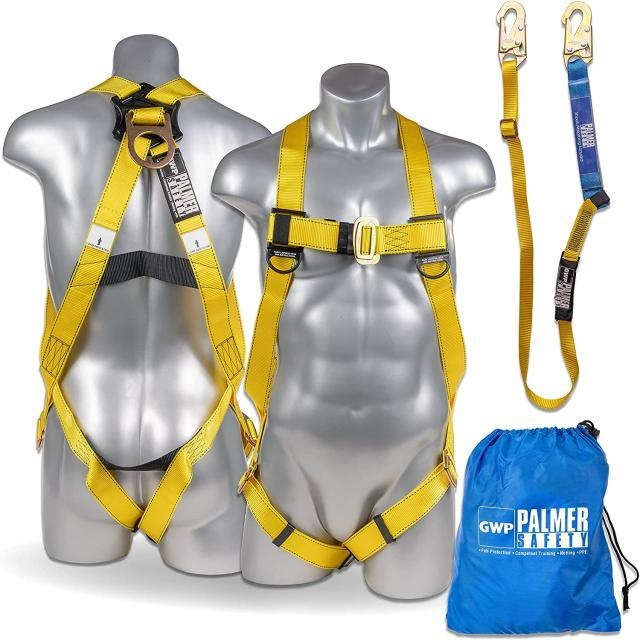Arnes_seguridad: (230, 98, 468, 566), (33, 69, 247, 545)
